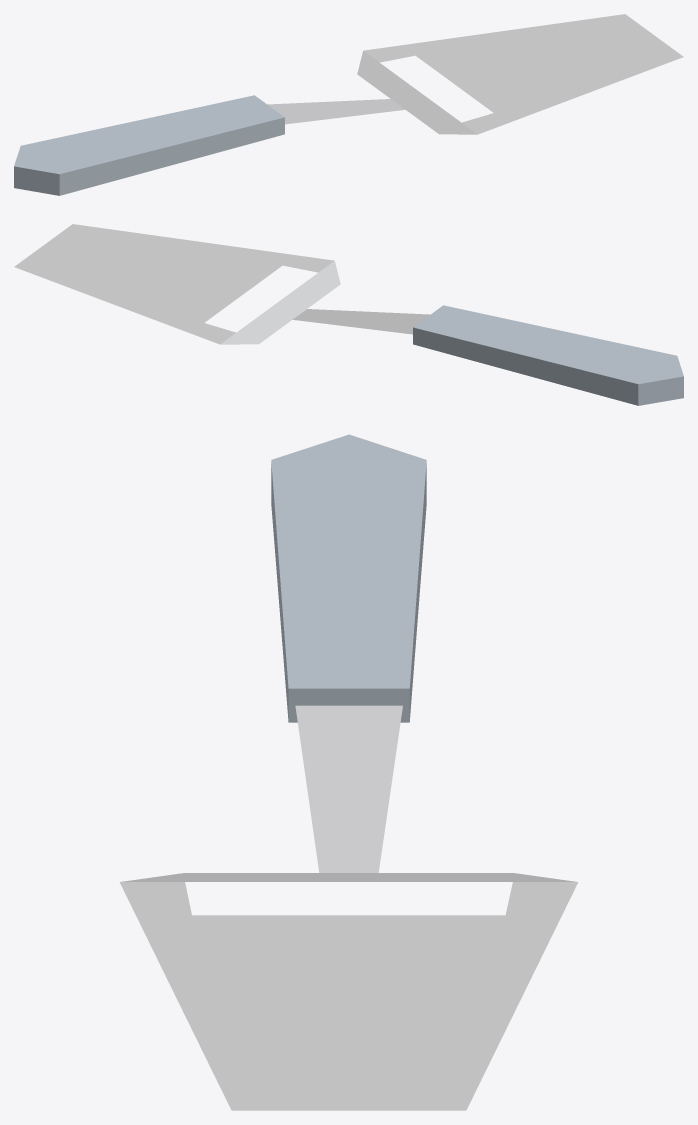
3 views of the same model, one above another, from view 1: azimuth 30°, elevation 25°; view 2: azimuth 150°, elevation 25°; view 3: azimuth 270°, elevation 25° (orthographic). The views are drawn at different scales.
Parts seen in each view (by area): view 1: cheeseSlicer; view 2: cheeseSlicer; view 3: cheeseSlicer.
Part boxes in pixels (x1=…): cheeseSlicer: x1=14, y1=14, x2=683, y2=195; cheeseSlicer: x1=14, y1=224, x2=683, y2=405; cheeseSlicer: x1=119, y1=434, x2=578, y2=1110.
Bounding box in the file's own units: 0.6184 × 0.0293 × 0.1918.
